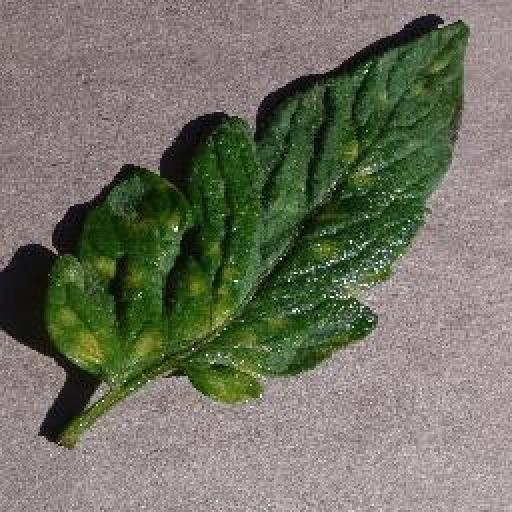Leaf Mold: (46, 17, 469, 403)
